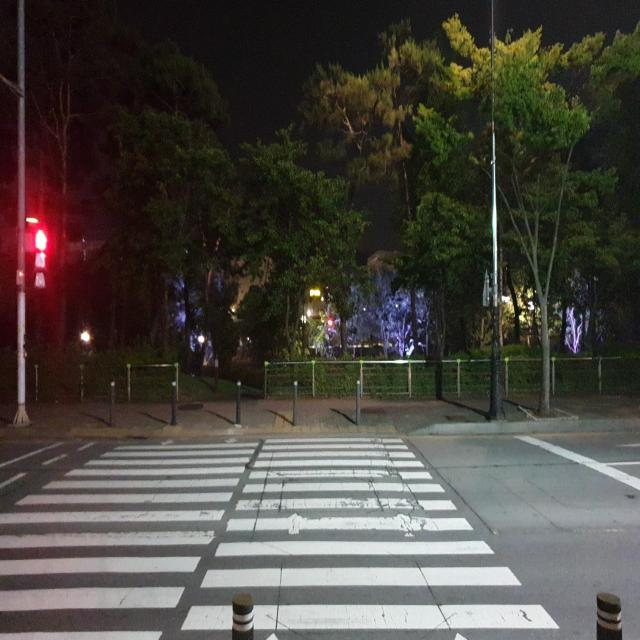횡단보도: (0, 438, 560, 640)
